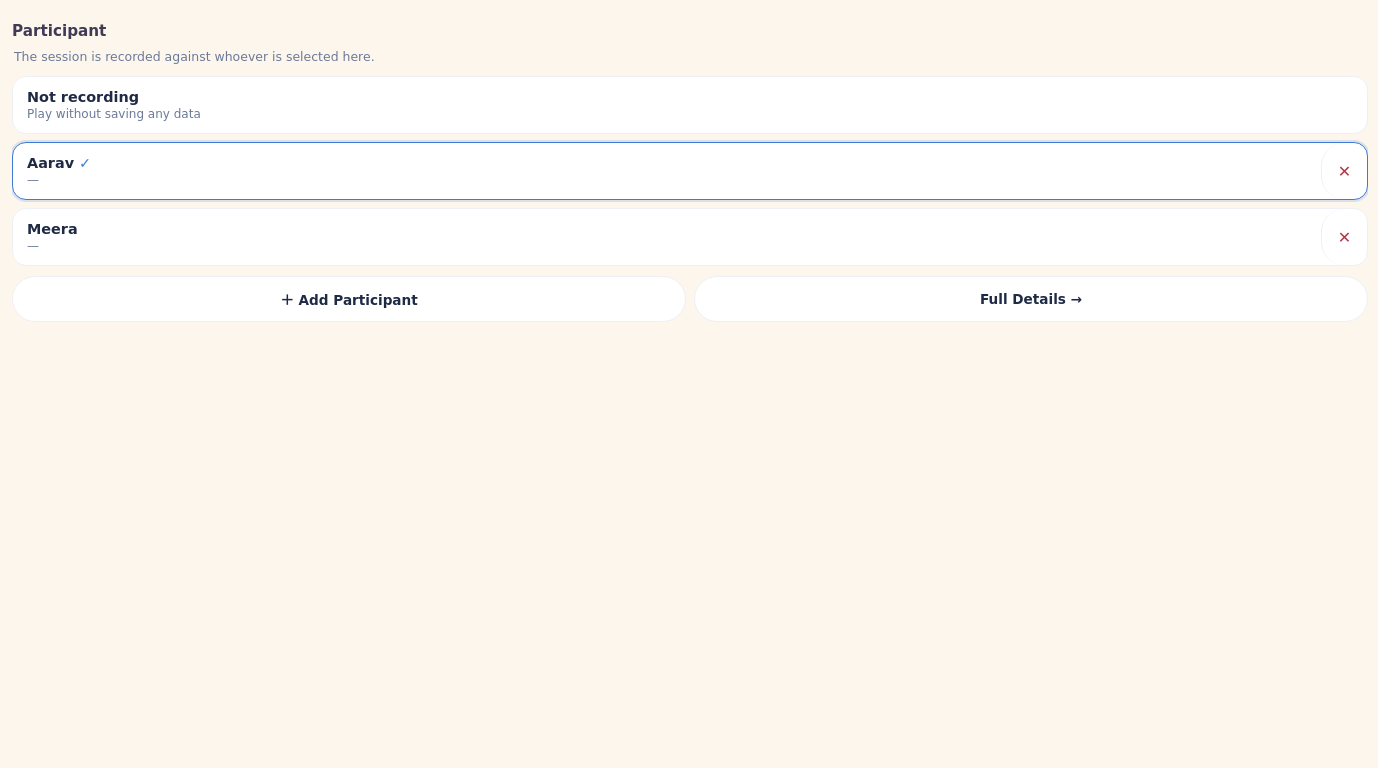
Test case: adding a participant mid-session › closes the form on cancel without saving
Click the button "＋ Add participant" at (349, 299), box 12,276 -> 686,322
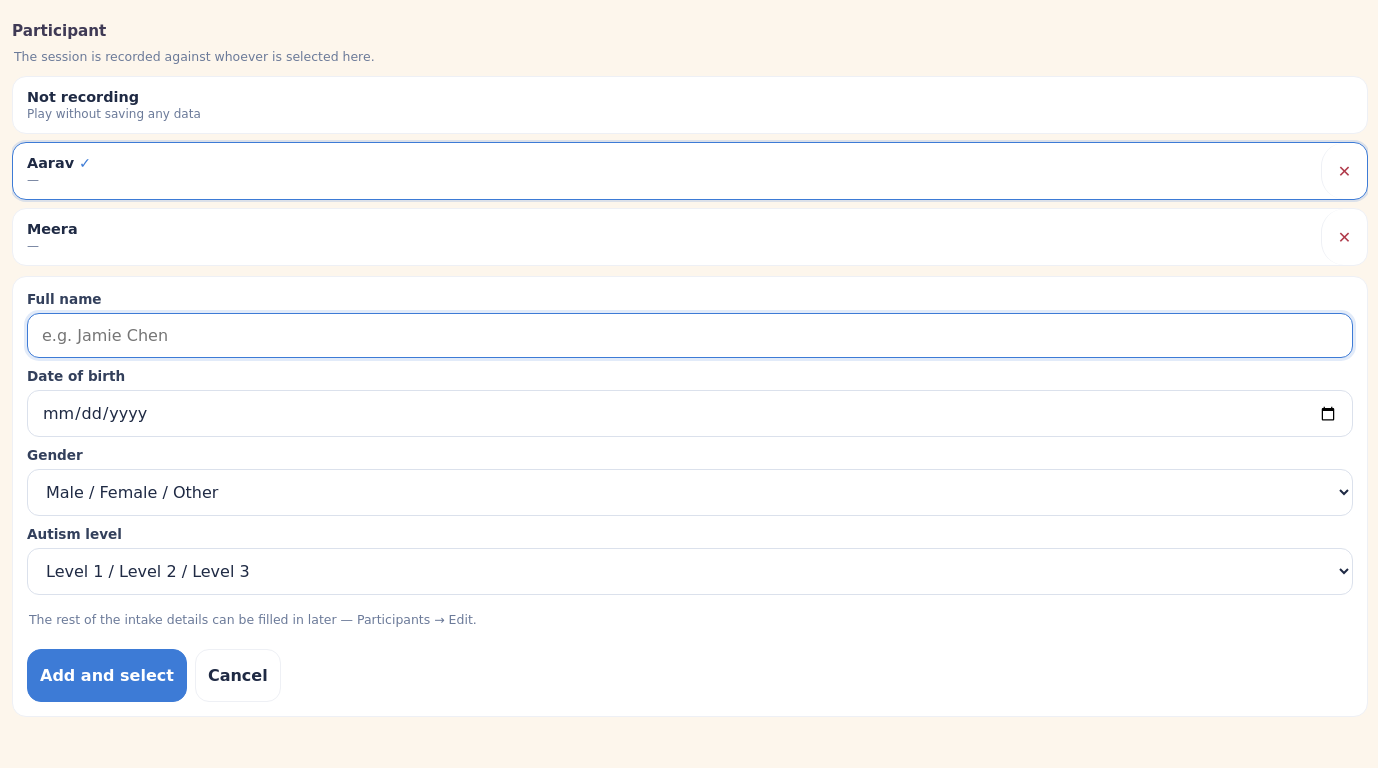
Type "Ravi" into the field labelled "Full name" at (690, 336), box 27,313 -> 1353,358
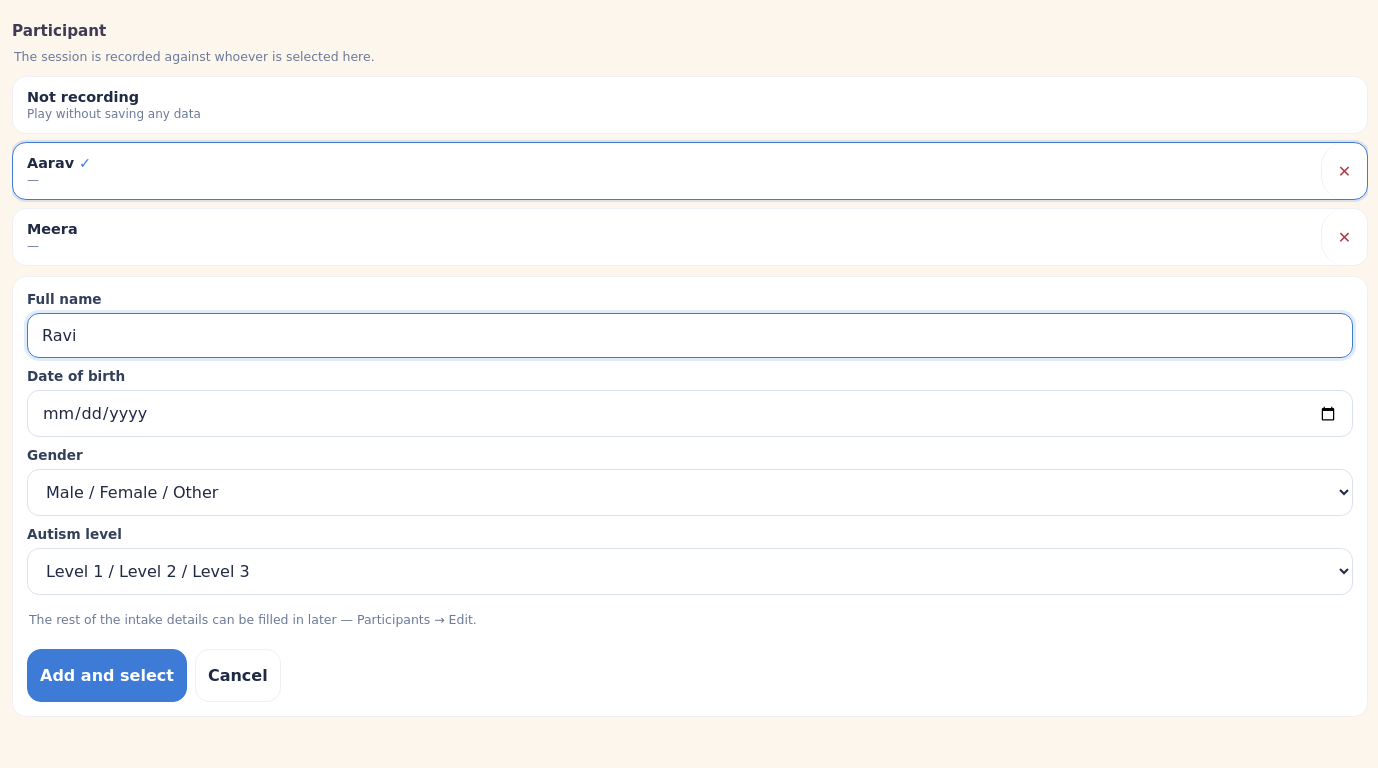
Click the button "Cancel" at (238, 676), box 195,649 -> 281,702
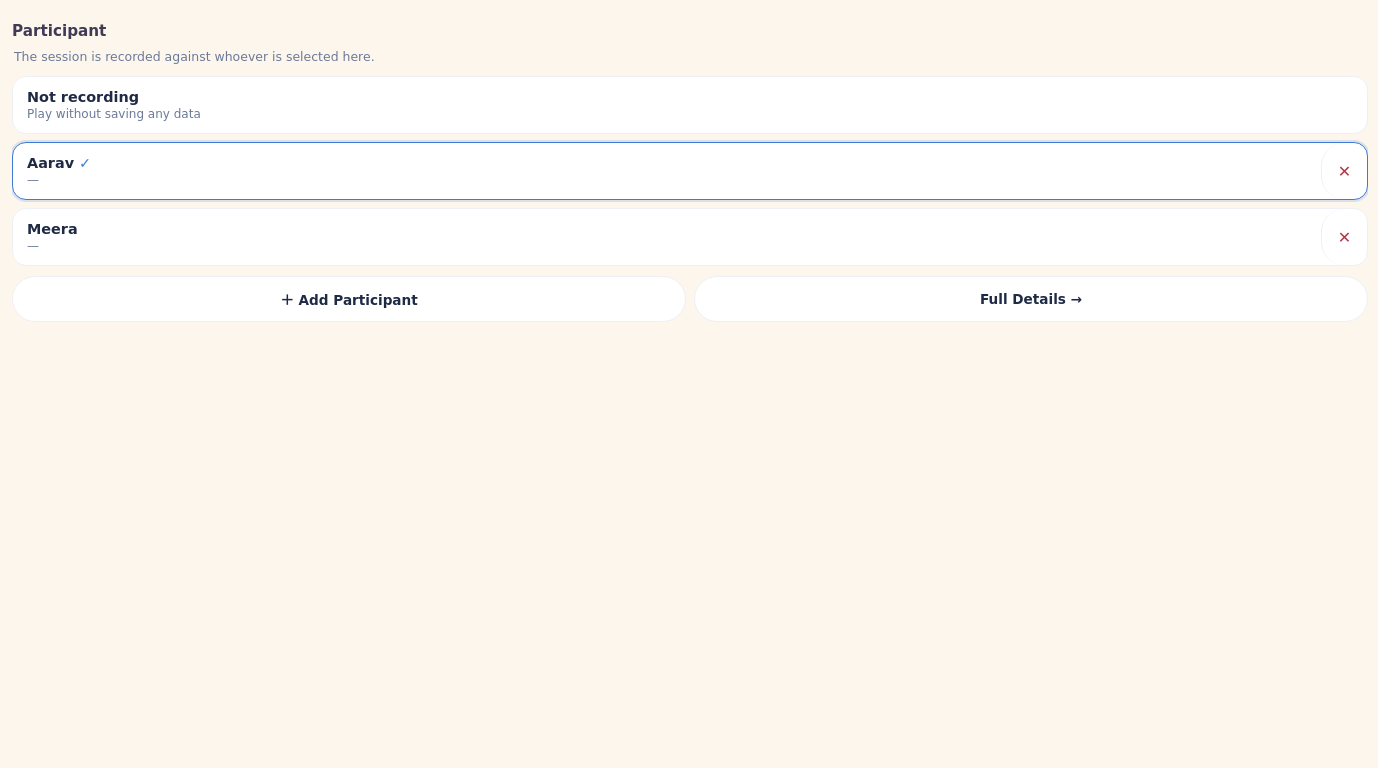
expect the button "＋ Add participant" is shown: met, box 12,276 -> 686,322
